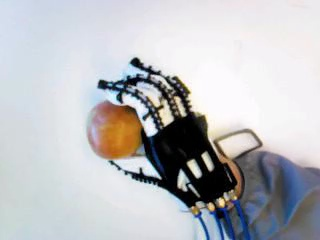apple: (84, 99, 143, 159)
hand: (95, 57, 237, 216)
